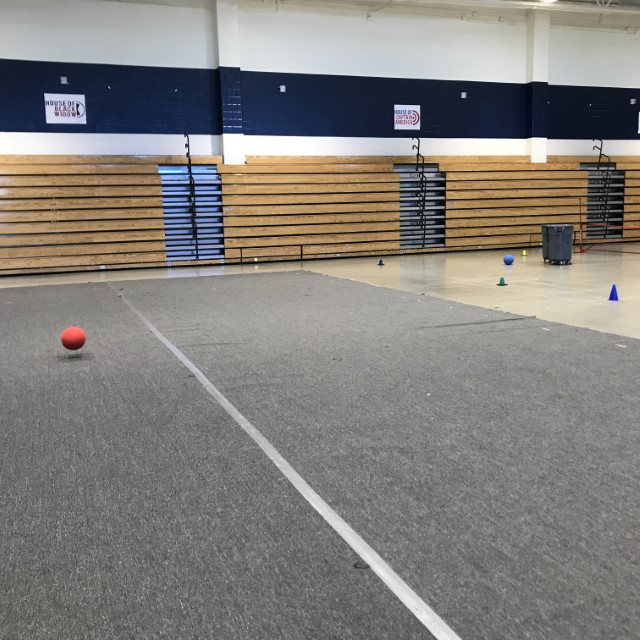blue: (501, 253, 516, 266)
red: (58, 326, 88, 350)
